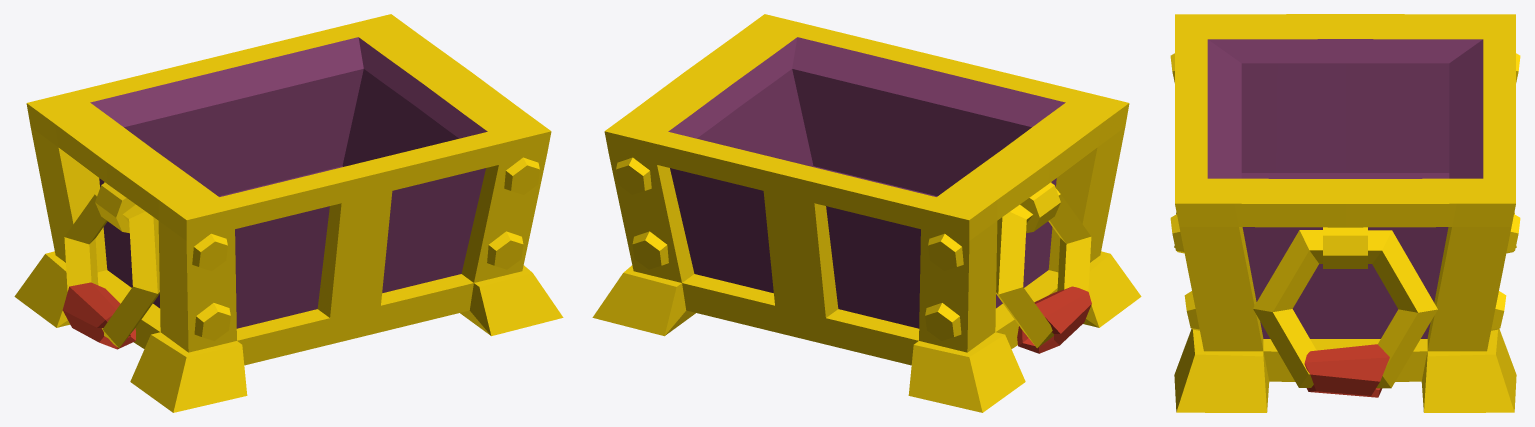
Rendered from chest_gold_bottom.fbx.
The picture shows the model from 3 angles, left to right: view 1: azimuth 30°, elevation 25°; view 2: azimuth 150°, elevation 25°; view 3: azimuth 270°, elevation 25°; orthographic projection. The views are drawn at different scales.
Parts seen in each view (by area): view 1: chest_gold_bottom; view 2: chest_gold_bottom; view 3: chest_gold_bottom.
Part boxes in pixels (<box>): chest_gold_bottom: <box>14,14,563,412</box>; chest_gold_bottom: <box>592,14,1141,412</box>; chest_gold_bottom: <box>1170,14,1520,412</box>.
Size of the model in its own units: 115 by 49.66 by 77.86.
